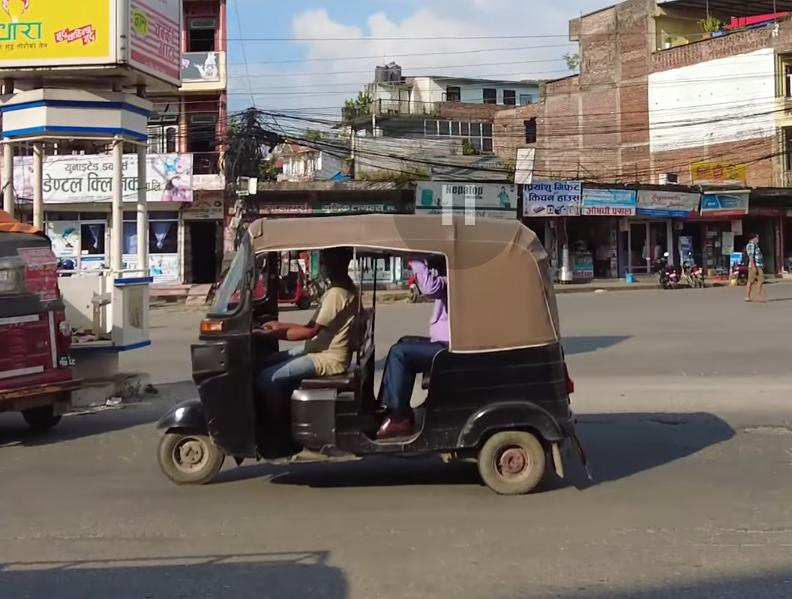auto_rickshaw: (162, 208, 602, 498), (0, 211, 75, 446)
